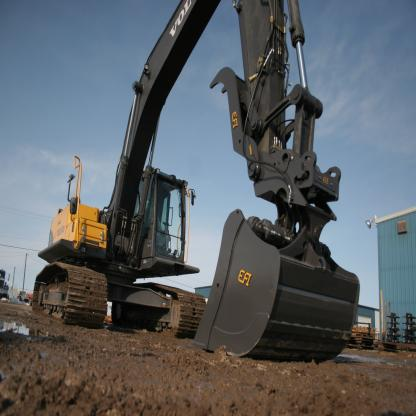excavator: (32, 3, 366, 374)
